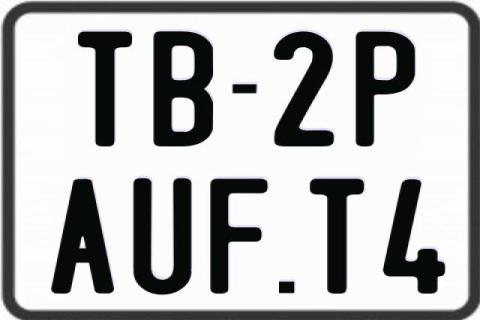0: (382, 178, 447, 294), (272, 29, 332, 149)
A: (49, 180, 117, 298)
B: (152, 31, 216, 146)
F: (207, 178, 271, 294)
P: (356, 29, 420, 148)
T: (308, 176, 368, 296), (78, 31, 138, 149)
U: (131, 178, 195, 298)
